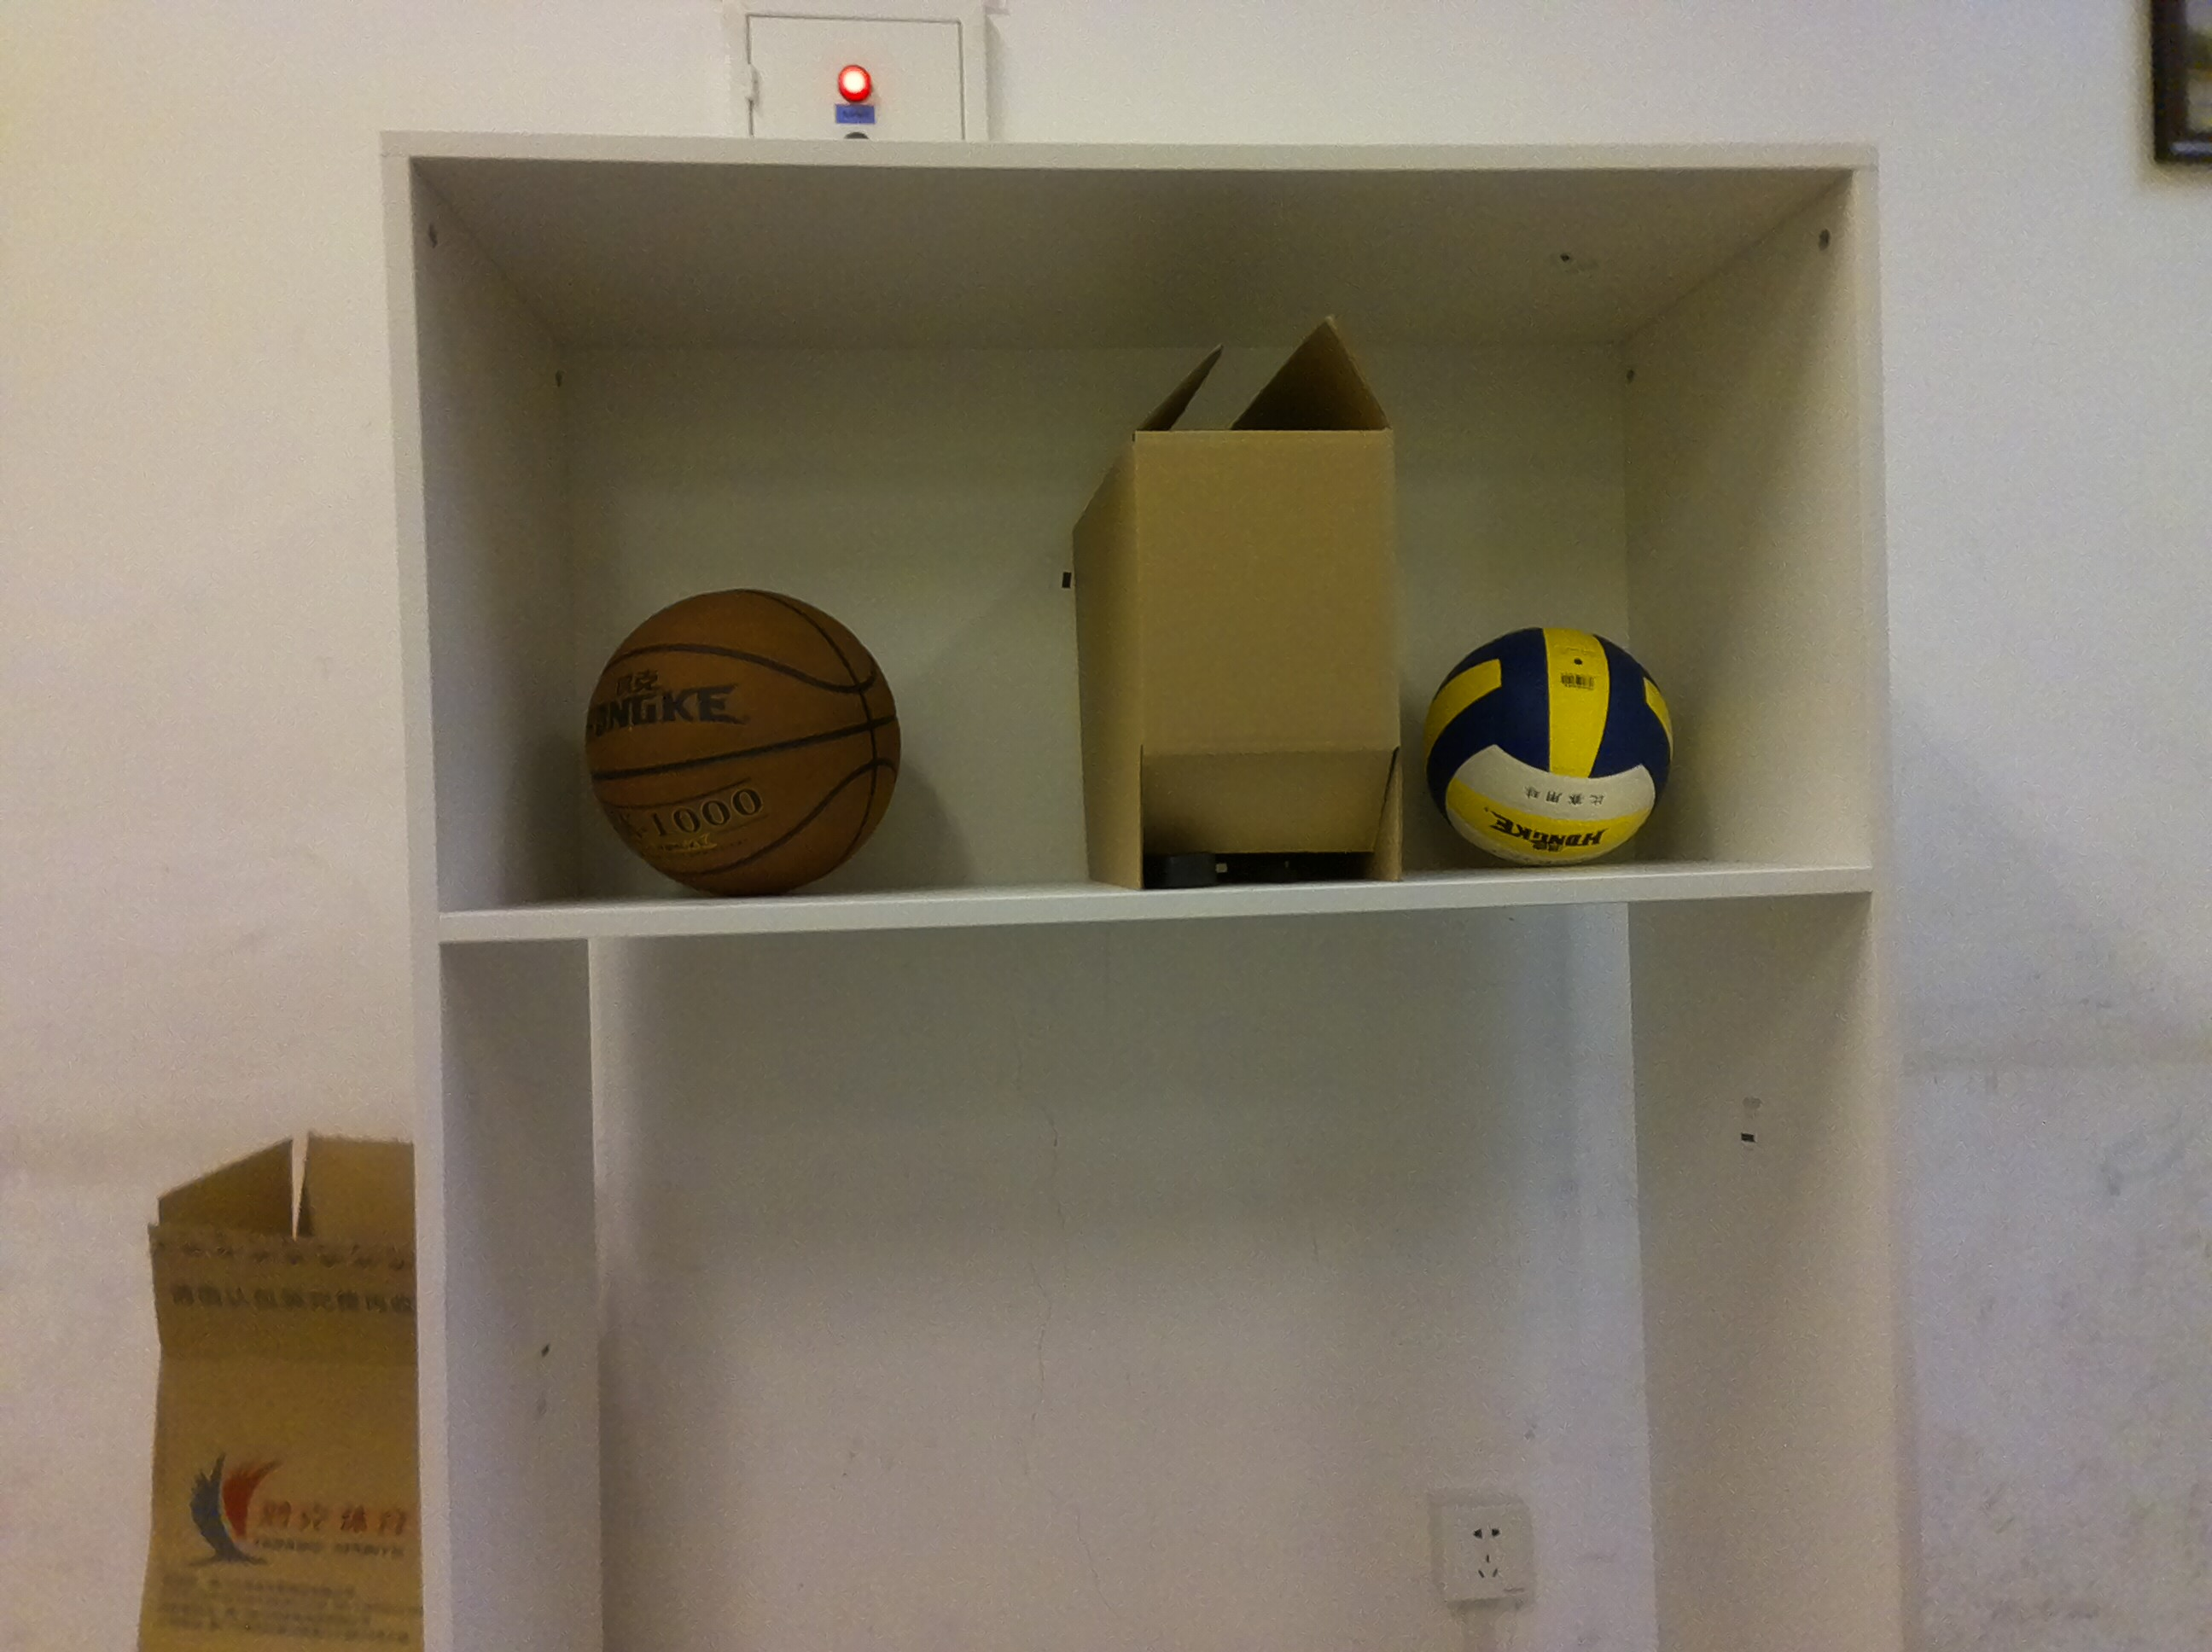basketball: (573, 576, 932, 904)
volleyball: (1431, 618, 1686, 875)
